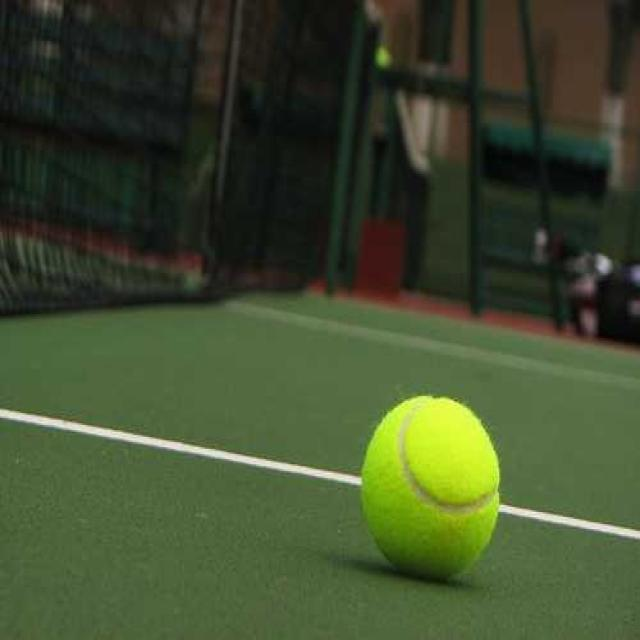Tennis_Ball: (358, 397, 508, 588)
